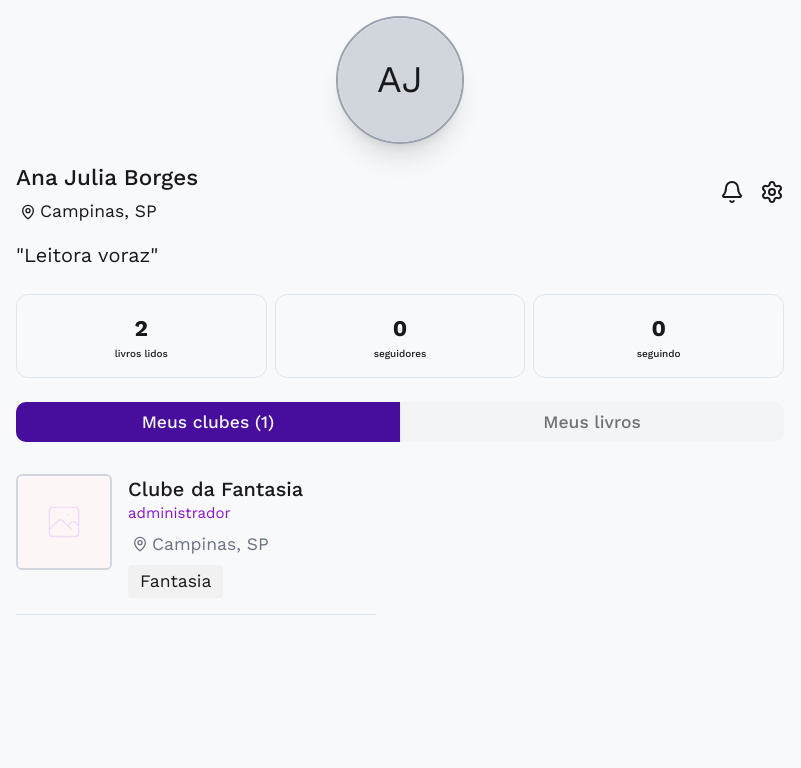
it: Profile › mostra mensagem quando a lista de livros está vazia
Click the tab "Meus livros".
click(592, 422)  # box [400,402,784,442]
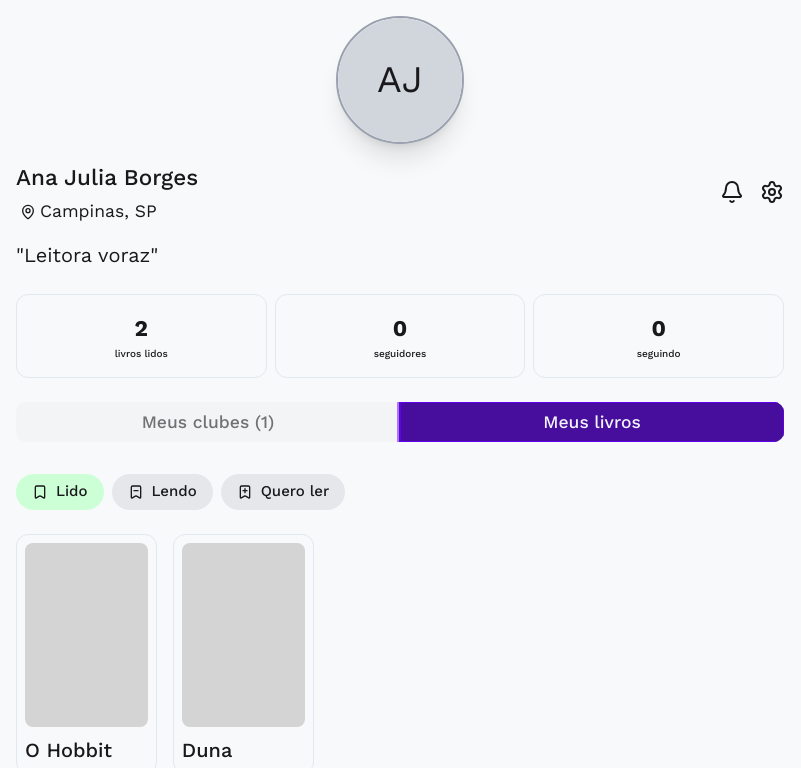
Click the text "Quero ler".
click(283, 492)  # box [221,474,345,510]
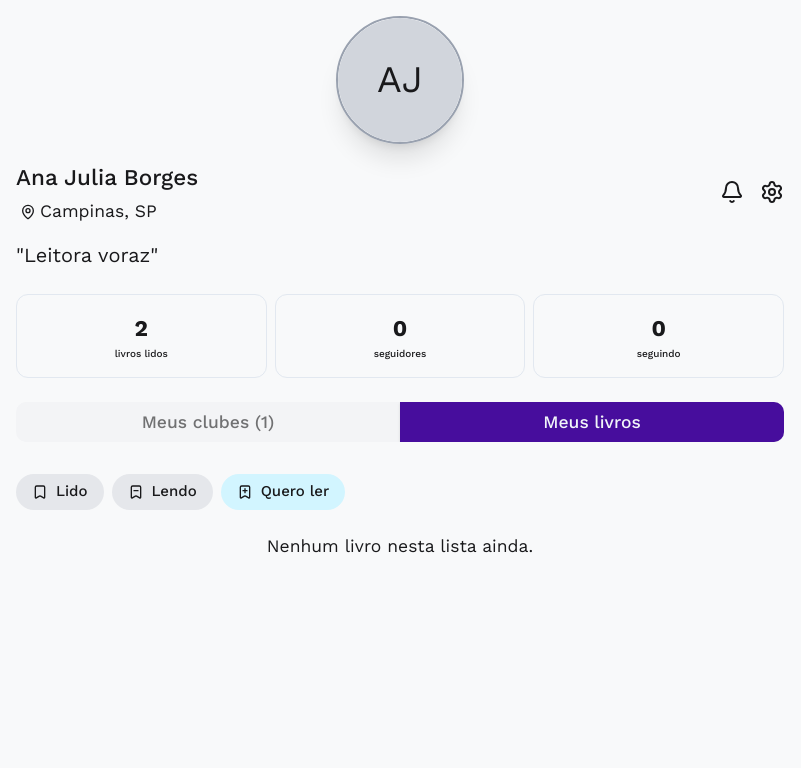
Check: the text "Nenhum livro nesta lista ainda." is shown, box [267,536,533,556]
